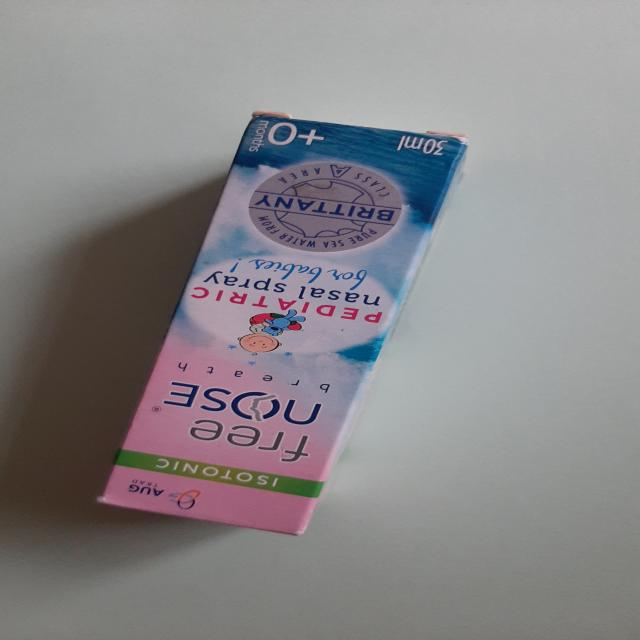Free Nose: (67, 103, 485, 559)
